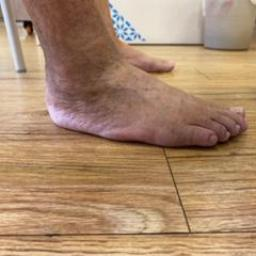Lateral View -Right Foot-: (7, 5, 252, 173)
